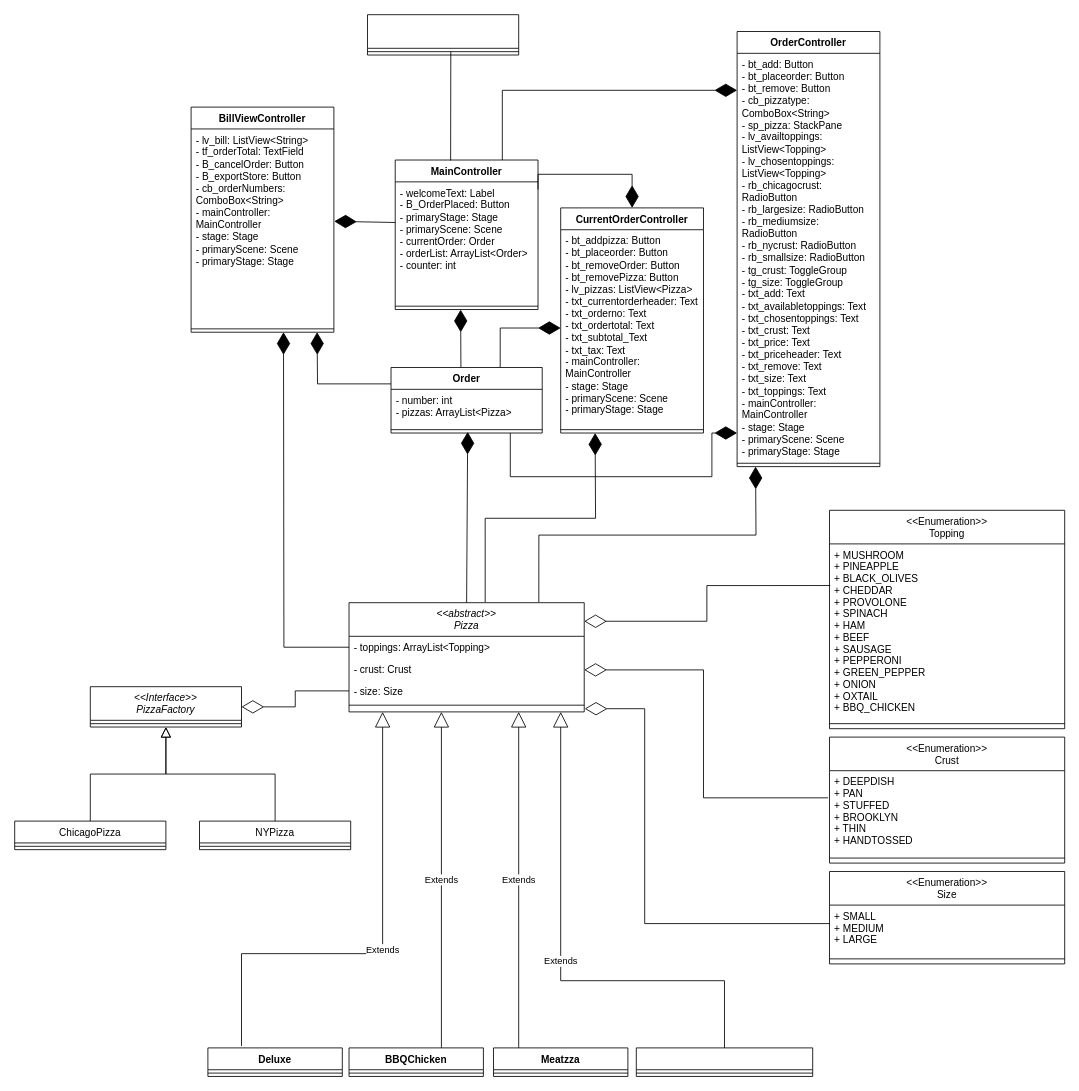
Some shapes in this 1079 by 1091 pixel diagram are drawn without their labels. The centre of each missing label's shape, as x and y in pixels:
BuildYourOwn: the point at 724,1061
RUPizzeriaApplication: the point at 443,34
